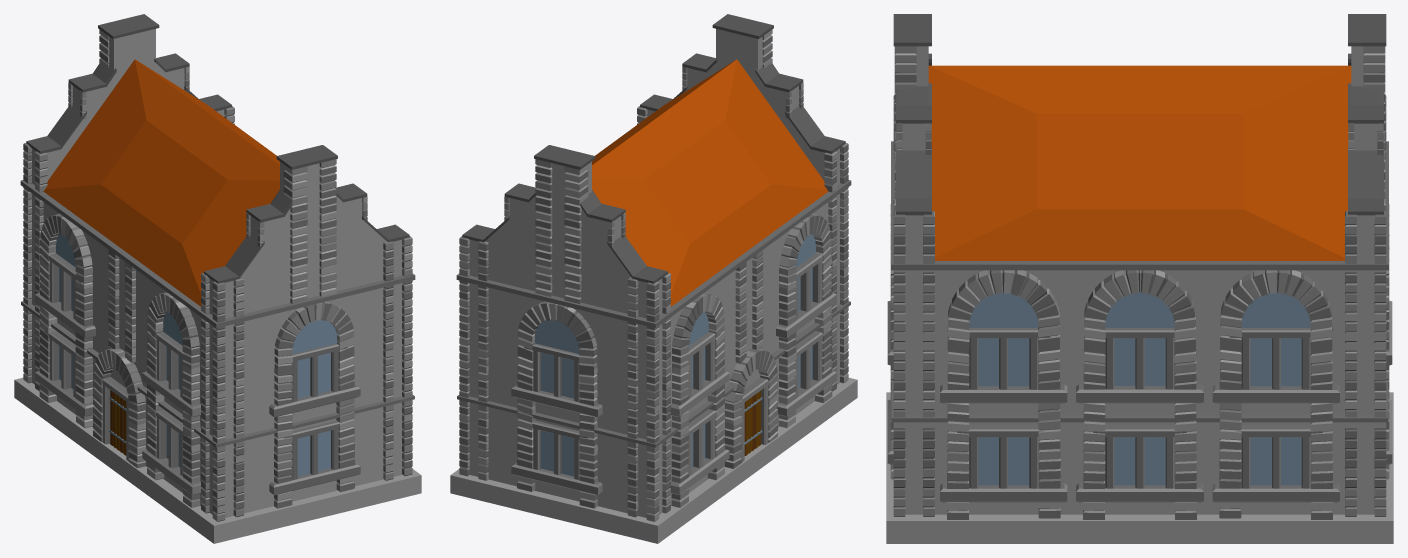
File: castle_town_house_2.fbx
3 renders of one model, left to right at view 1: azimuth 30°, elevation 25°; view 2: azimuth 150°, elevation 25°; view 3: azimuth 270°, elevation 25°, orthographic. The views are drawn at different scales.
Visible parts, largest first — view 1: house; view 2: house; view 3: house.
Boxes of the visible parts, x1,y1,x2,y2 form: house: [14, 14, 421, 543]; house: [450, 14, 857, 543]; house: [886, 14, 1393, 543].
Size of the model in its own units: 10000 by 9811 by 6037.
